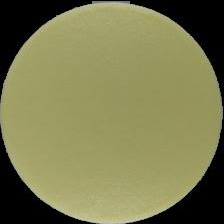68788-9671: (0, 0, 224, 224)
